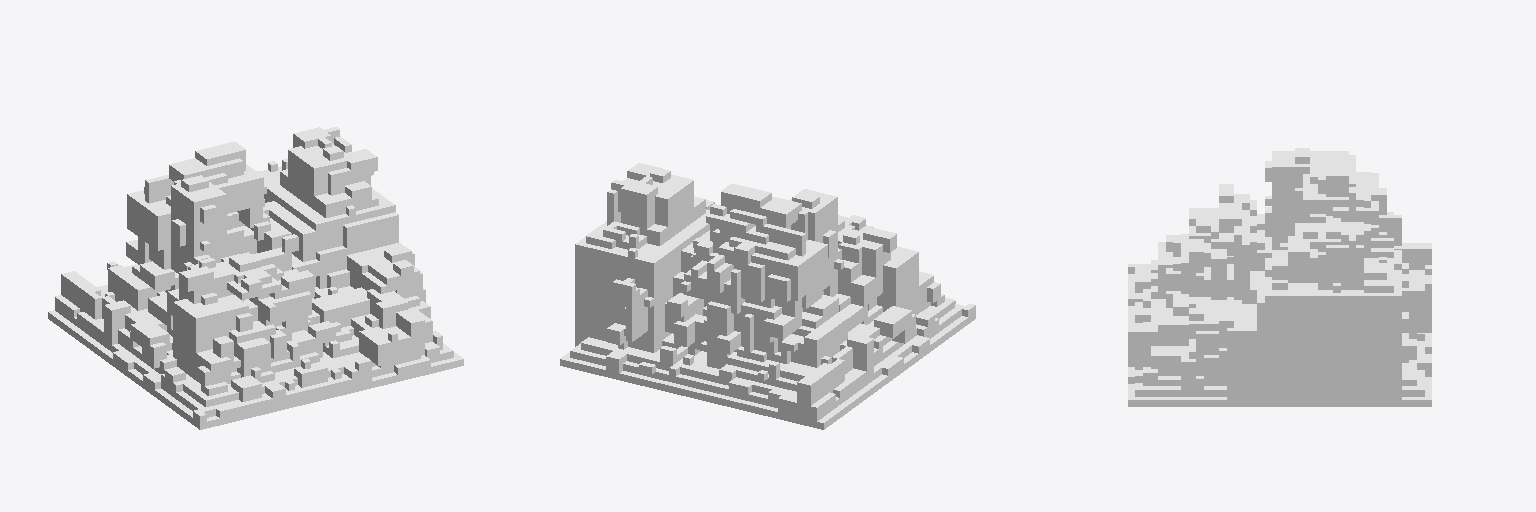
File: mountain_v2.obj
The picture shows the model from 3 angles: view 1: azimuth 30°, elevation 25°; view 2: azimuth 150°, elevation 25°; view 3: azimuth 270°, elevation 25°; orthographic projection.
Visible parts, largest first — view 1: object 1; view 2: object 1; view 3: object 1.
Boxes of the visible parts, x1=… form: object 1: x1=48, y1=127, x2=463, y2=429; object 1: x1=560, y1=163, x2=975, y2=429; object 1: x1=1128, y1=148, x2=1431, y2=406.
Bounding box in the file's own units: 4 × 2.5 × 4.